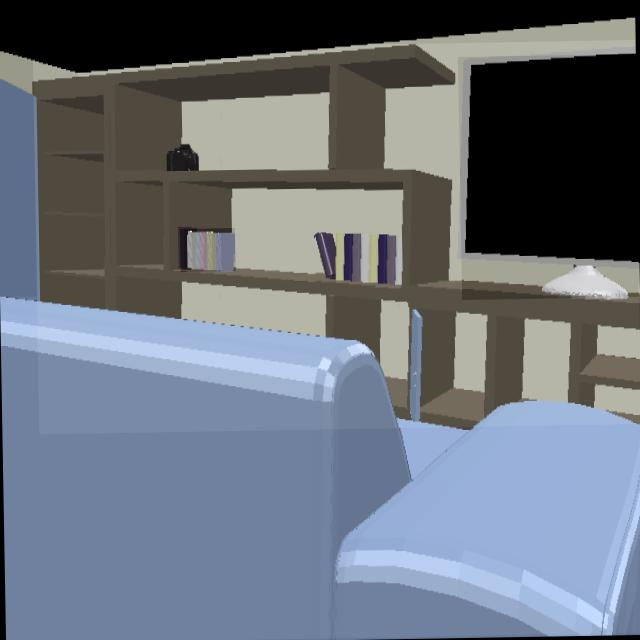book: (315, 234, 402, 286), (180, 228, 234, 271)
monitor: (461, 54, 638, 297)
shelf: (33, 43, 639, 426)
sofa: (0, 297, 640, 640)
